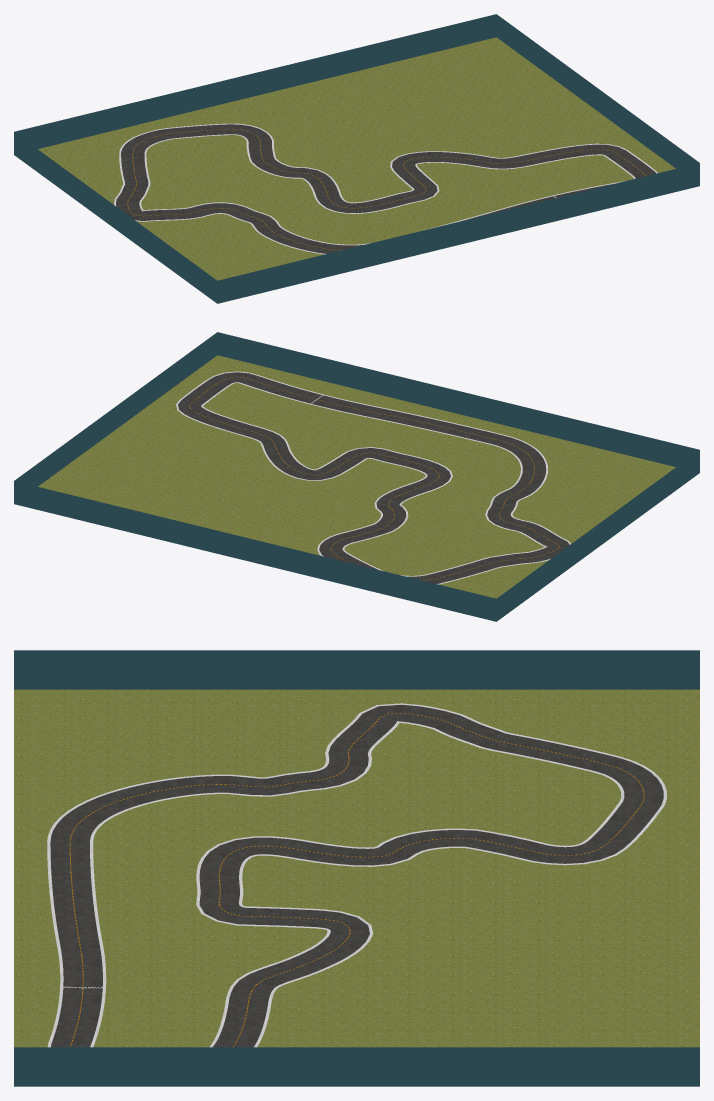
File: jyllandsringen_pro_ccw.dae
The picture shows the model from 3 angles, top to bottom: view 1: azimuth 30°, elevation 25°; view 2: azimuth 150°, elevation 25°; view 3: azimuth 270°, elevation 25°; orthographic projection. The views are drawn at different scales.
Parts seen in each view (by area): view 1: field, wall, road, il, ol, cl; view 2: field, wall, road, il, ol, cl; view 3: field, wall, road, ol, il, cl.
Boxes of the visible parts, left/top/right/bottom form: field: left=38, top=37, right=675, bottom=280; wall: left=14, top=14, right=699, bottom=303; road: left=116, top=124, right=656, bottom=253; il: left=139, top=134, right=635, bottom=245; ol: left=114, top=123, right=657, bottom=254; cl: left=127, top=129, right=645, bottom=250; field: left=38, top=355, right=675, bottom=598; wall: left=14, top=332, right=699, bottom=621; road: left=178, top=372, right=569, bottom=583; il: left=201, top=382, right=547, bottom=576; ol: left=176, top=371, right=570, bottom=584; cl: left=189, top=377, right=559, bottom=580; field: left=14, top=689, right=699, bottom=1047; wall: left=14, top=650, right=699, bottom=1086; road: left=50, top=704, right=663, bottom=1047; ol: left=47, top=703, right=666, bottom=1047; il: left=90, top=721, right=624, bottom=1047; cl: left=69, top=713, right=644, bottom=1046.
Bounding box in the file's own units: 21.79 × 15.91 × 1.
Materials: 7 (7 with a texture image).
